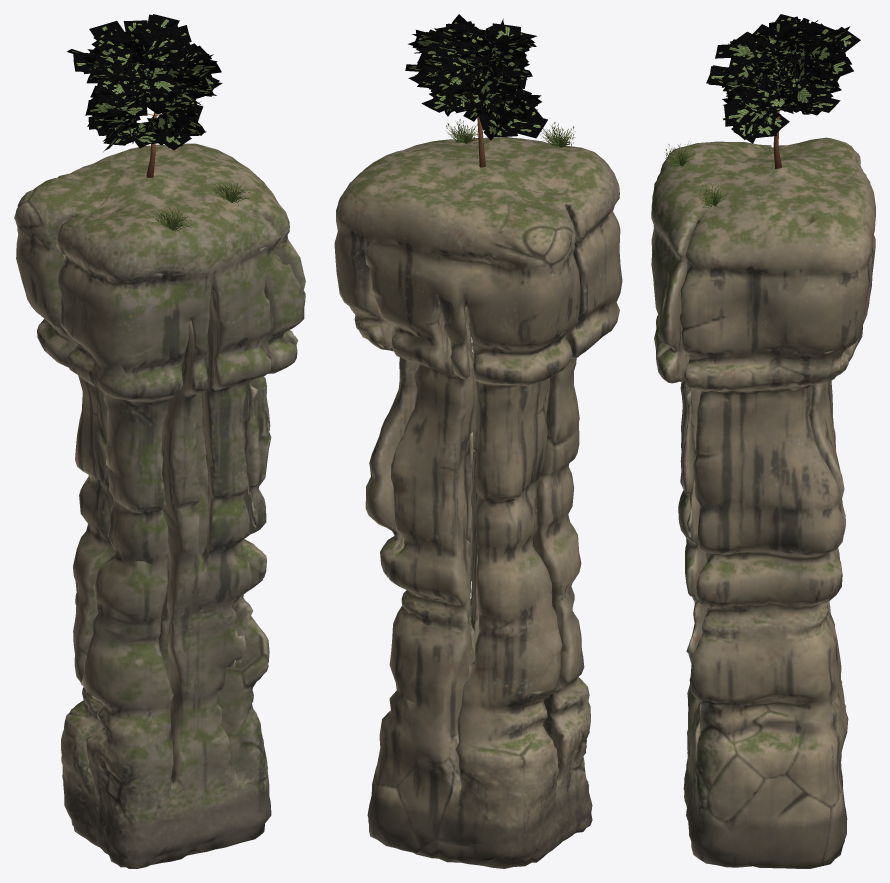
File: skala_hlava.glb
3 views of the same model, side by side, from view 1: azimuth 30°, elevation 25°; view 2: azimuth 150°, elevation 25°; view 3: azimuth 270°, elevation 25° (orthographic). The views are drawn at different scales.
Parts seen in each view (by area): view 1: skala_hlava, borovice_mlada; view 2: skala_hlava, borovice_mlada; view 3: skala_hlava, borovice_mlada, trava_vysoka_2.001.
Boxes of the visible parts, <box> form: skala_hlava: <box>14,143,305,868</box>; borovice_mlada: <box>67,14,222,177</box>; skala_hlava: <box>334,137,622,868</box>; borovice_mlada: <box>405,14,547,167</box>; skala_hlava: <box>651,137,875,868</box>; borovice_mlada: <box>706,14,860,168</box>; trava_vysoka_2.001: <box>665,143,694,168</box>.
Size of the model in its own units: 6.03 by 20.62 by 5.27.
6 materials, 6 textured.
